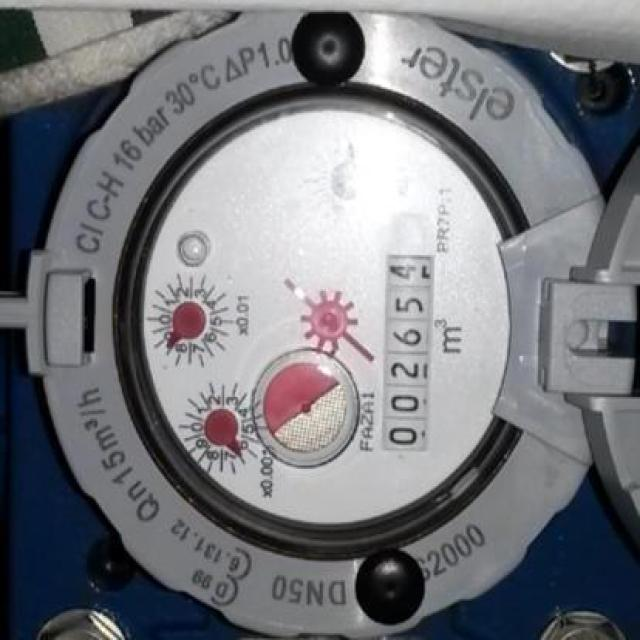gaz_meter: (127, 95, 531, 531)
indication: (378, 247, 437, 453)
